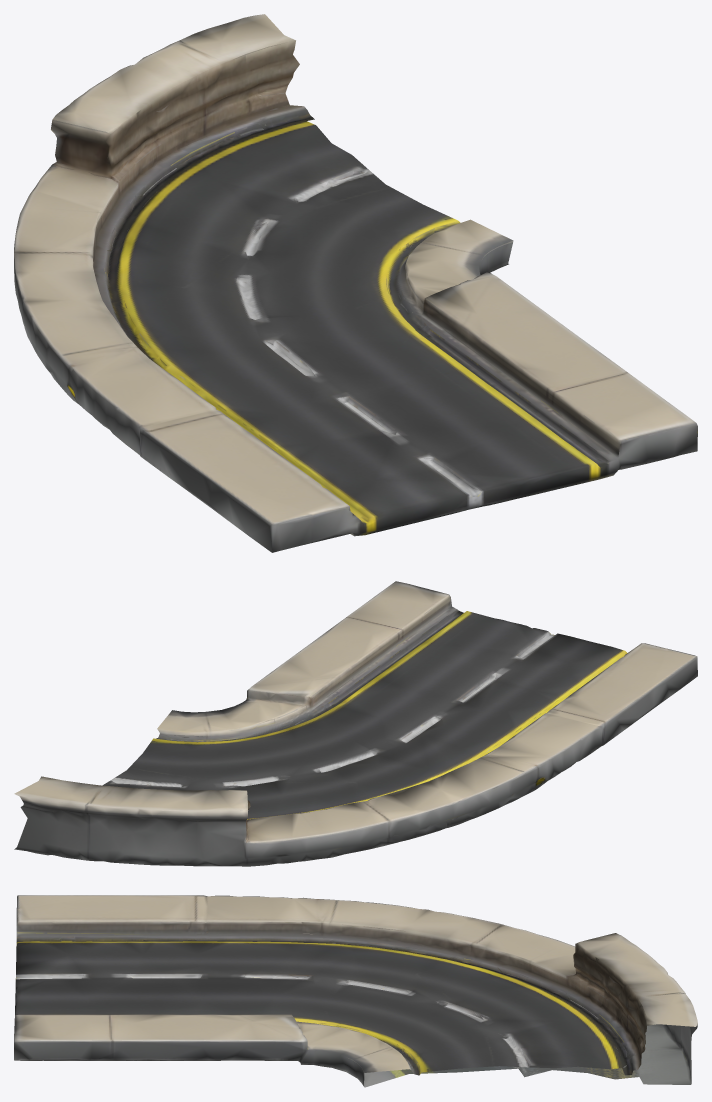
The model's file is sagdönmekyol.fbx.
3 renders of one model, top to bottom at view 1: azimuth 30°, elevation 25°; view 2: azimuth 150°, elevation 25°; view 3: azimuth 270°, elevation 25°, orthographic. The views are drawn at different scales.
Parts seen in each view (by area): view 1: Mesh_0.003; view 2: Mesh_0.003; view 3: Mesh_0.003.
Part boxes in pixels (<box>): Mesh_0.003: <box>14,14,697,552</box>; Mesh_0.003: <box>14,581,697,866</box>; Mesh_0.003: <box>14,895,697,1087</box>.
Size of the model in its own units: 94.09 by 15.31 by 162.
Materials: 1 (1 with a texture image).
